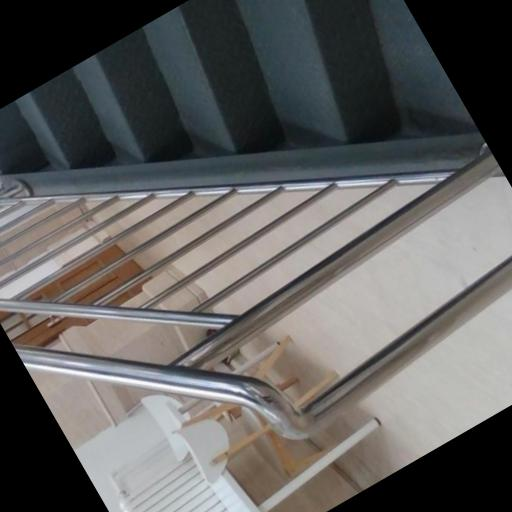stairs: (0, 0, 477, 171)
